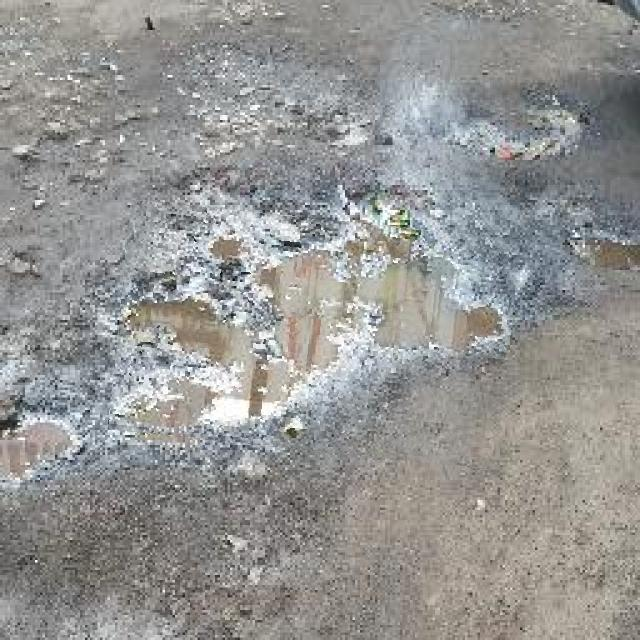puddle: (114, 210, 517, 462)
